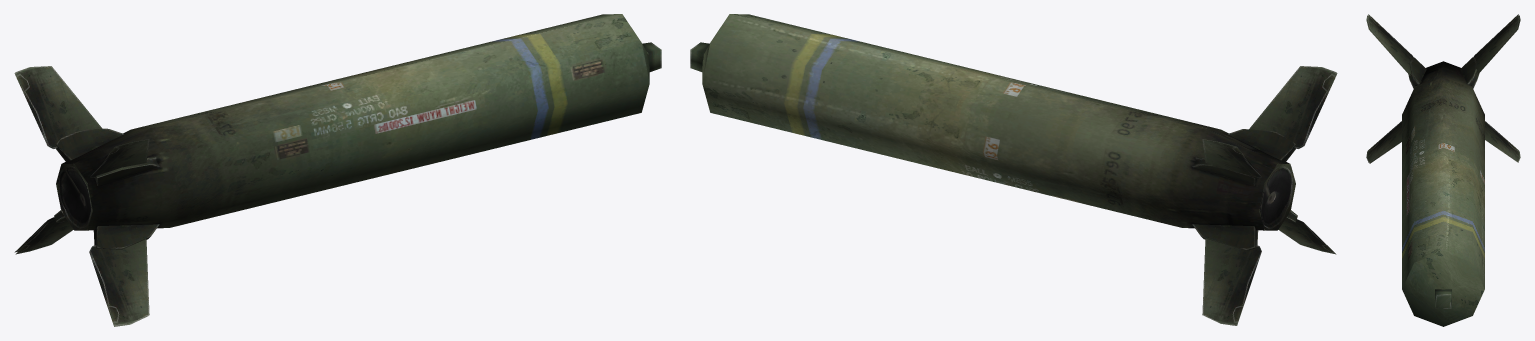
The model's file is projectile_cbu97_clusterbomb_LOD1.obj.
3 views of the same model, side by side, from view 1: azimuth 30°, elevation 25°; view 2: azimuth 150°, elevation 25°; view 3: azimuth 270°, elevation 25° (orthographic). The views are drawn at different scales.
Visible parts, largest first — view 1: mtl_cbu97_clusterbomb; view 2: mtl_cbu97_clusterbomb; view 3: mtl_cbu97_clusterbomb.
Boxes of the visible parts, left/top/right/bottom form: mtl_cbu97_clusterbomb: left=14, top=14, right=661, bottom=326; mtl_cbu97_clusterbomb: left=690, top=14, right=1337, bottom=325; mtl_cbu97_clusterbomb: left=1366, top=14, right=1520, bottom=326.
Size of the model in its own units: 241 by 71.19 by 71.19.
